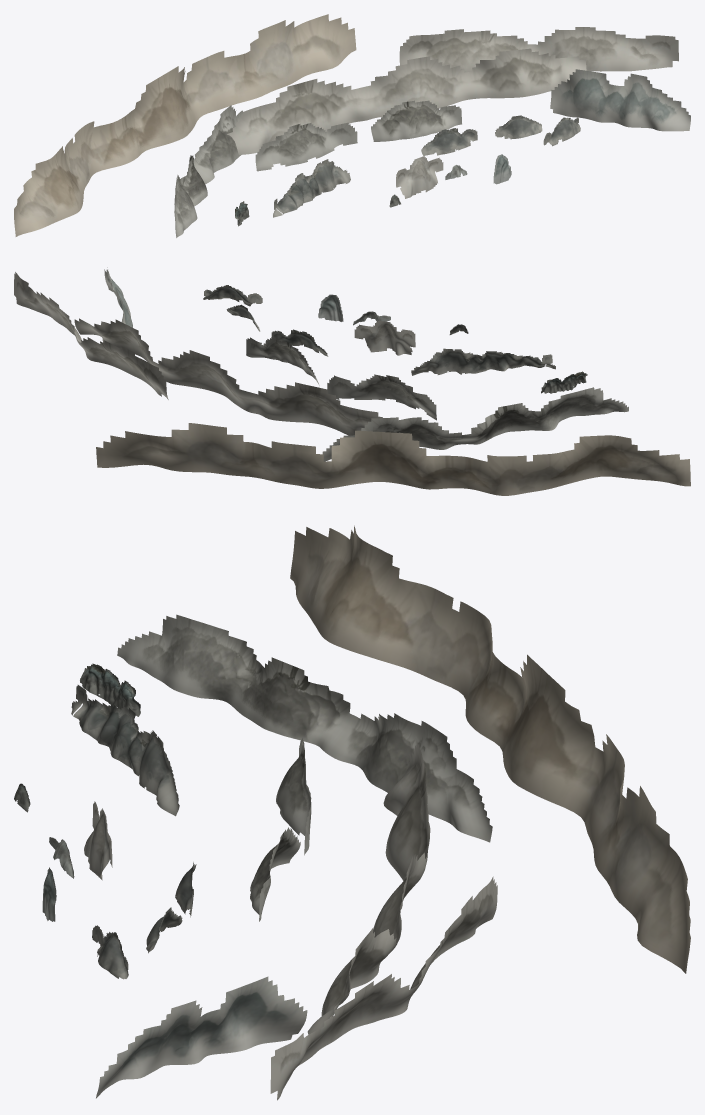
Rendered from ink_mountains.glb.
3 views of the same model, one above another, from view 1: azimuth 30°, elevation 25°; view 2: azimuth 150°, elevation 25°; view 3: azimuth 270°, elevation 25° (orthographic). The views are drawn at different scales.
Visible parts, largest first — view 1: Sumiro_Hill_00_NF, Sumiro_Hill_01_NXM, Sumiro_Hill_02_EM, Sumiro_Hill_11_ER, Sumiro_Hill_06_NXR, Sumiro_Hill_10_WR, Sumiro_Hill_04_NL, Sumiro_Hill_03_NXL, Sumiro_Hill_05_NA4, Sumiro_Hill_08_WXA, Sumiro_Hill_07_NA3; view 2: Sumiro_Hill_00_NF, Sumiro_Hill_01_NXM, Sumiro_Hill_10_WR, Sumiro_Hill_06_NXR, Sumiro_Hill_02_EM, Sumiro_Hill_04_NL, Sumiro_Hill_05_NA4, Sumiro_Hill_03_NXL, Sumiro_Hill_08_WXA, Sumiro_Hill_09_WA1, Sumiro_Hill_07_NA3, Sumiro_Hill_11_ER; view 3: Sumiro_Hill_00_NF, Sumiro_Hill_10_WR, Sumiro_Hill_11_ER, Sumiro_Hill_01_NXM, Sumiro_Hill_02_EM, Sumiro_Hill_04_NL, Sumiro_Hill_06_NXR, Sumiro_Hill_09_WA1, Sumiro_Hill_05_NA4, Sumiro_Hill_03_NXL, Sumiro_Hill_08_WXA.
Part boxes in pixels (<box>): Sumiro_Hill_00_NF: <box>14,14,356,236</box>; Sumiro_Hill_01_NXM: <box>227,48,586,154</box>; Sumiro_Hill_02_EM: <box>399,27,678,72</box>; Sumiro_Hill_11_ER: <box>550,69,690,131</box>; Sumiro_Hill_06_NXR: <box>255,100,461,171</box>; Sumiro_Hill_10_WR: <box>174,105,242,237</box>; Sumiro_Hill_04_NL: <box>273,159,350,217</box>; Sumiro_Hill_03_NXL: <box>421,115,542,155</box>; Sumiro_Hill_05_NA4: <box>396,156,443,198</box>; Sumiro_Hill_08_WXA: <box>543,117,580,146</box>; Sumiro_Hill_07_NA3: <box>493,154,511,184</box>; Sumiro_Hill_00_NF: <box>96,423,690,495</box>; Sumiro_Hill_01_NXM: <box>74,318,400,435</box>; Sumiro_Hill_10_WR: <box>322,387,628,461</box>; Sumiro_Hill_06_NXR: <box>246,337,436,420</box>; Sumiro_Hill_02_EM: <box>14,272,168,399</box>; Sumiro_Hill_04_NL: <box>411,348,555,375</box>; Sumiro_Hill_05_NA4: <box>354,320,415,355</box>; Sumiro_Hill_03_NXL: <box>226,304,328,356</box>; Sumiro_Hill_08_WXA: <box>203,285,262,306</box>; Sumiro_Hill_09_WA1: <box>541,371,587,393</box>; Sumiro_Hill_07_NA3: <box>318,294,343,321</box>; Sumiro_Hill_11_ER: <box>104,267,132,327</box>; Sumiro_Hill_00_NF: <box>290,525,690,973</box>; Sumiro_Hill_10_WR: <box>117,614,492,842</box>; Sumiro_Hill_11_ER: <box>96,976,307,1098</box>; Sumiro_Hill_01_NXM: <box>307,741,430,1034</box>; Sumiro_Hill_02_EM: <box>270,876,497,1100</box>; Sumiro_Hill_04_NL: <box>71,685,179,816</box>; Sumiro_Hill_06_NXR: <box>250,738,311,921</box>; Sumiro_Hill_09_WA1: <box>80,663,140,716</box>; Sumiro_Hill_05_NA4: <box>84,801,112,880</box>; Sumiro_Hill_03_NXL: <box>146,862,196,953</box>; Sumiro_Hill_08_WXA: <box>92,925,128,979</box>.
Size of the model in its own units: 428 by 38.48 by 223.
Materials: 14 (14 with a texture image).
